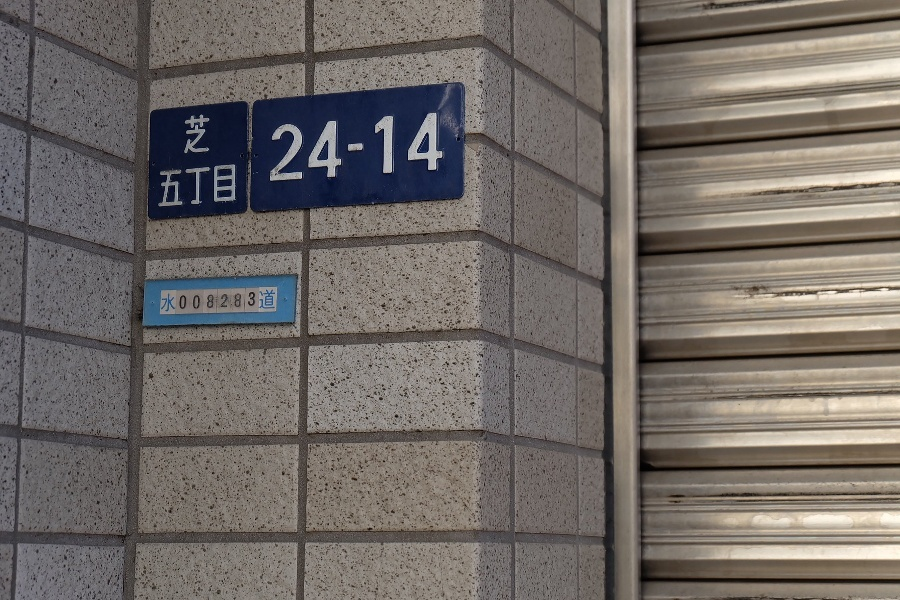text: (273, 108, 288, 189), (289, 108, 304, 189), (305, 108, 320, 189), (321, 108, 336, 189), (337, 108, 352, 189), (353, 108, 368, 189), (369, 108, 384, 189), (385, 108, 400, 189), (401, 108, 416, 189), (417, 108, 432, 189), (433, 108, 448, 189), (161, 162, 176, 212), (177, 162, 192, 212), (193, 162, 208, 212), (209, 162, 224, 212), (193, 112, 208, 158), (225, 162, 238, 212), (182, 112, 192, 158), (161, 289, 176, 315), (177, 289, 192, 315), (193, 289, 208, 315), (209, 289, 224, 315), (225, 289, 240, 315), (241, 289, 256, 315), (257, 289, 272, 315), (268, 108, 272, 189), (157, 162, 160, 212), (209, 112, 212, 158), (273, 289, 278, 315)
